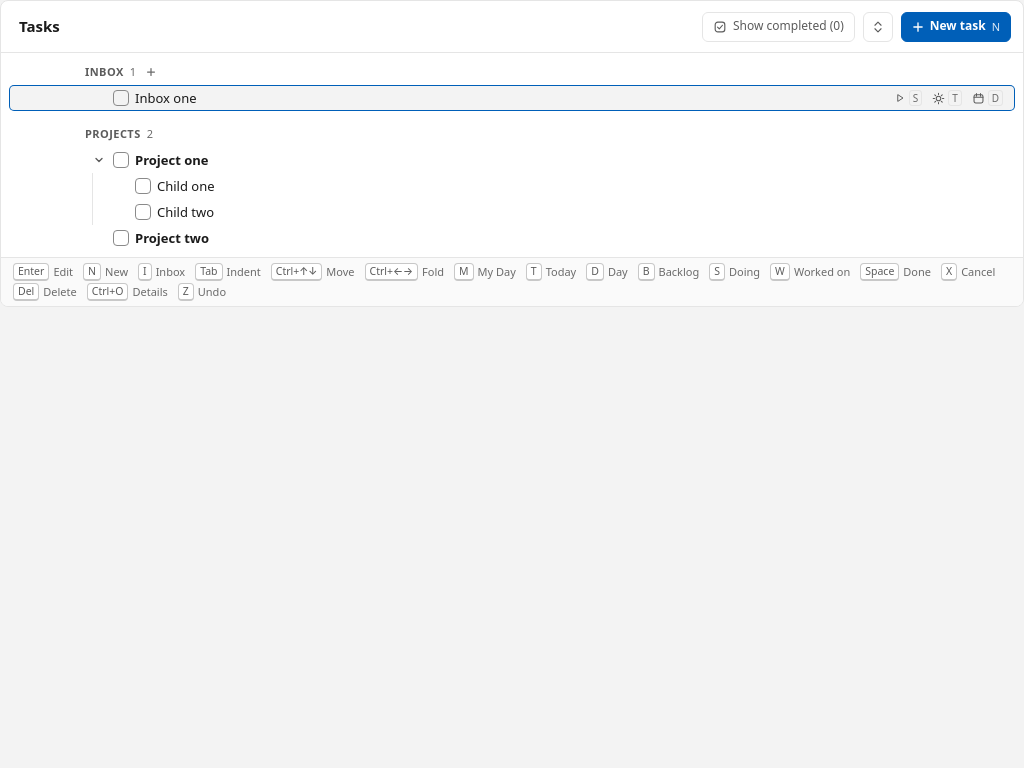
Test case: editing a saved title › Backspace on the first row deletes it and returns to navigate mode
Expected: the text "Child one" is shown, [157,177,215,195]
Press Enter
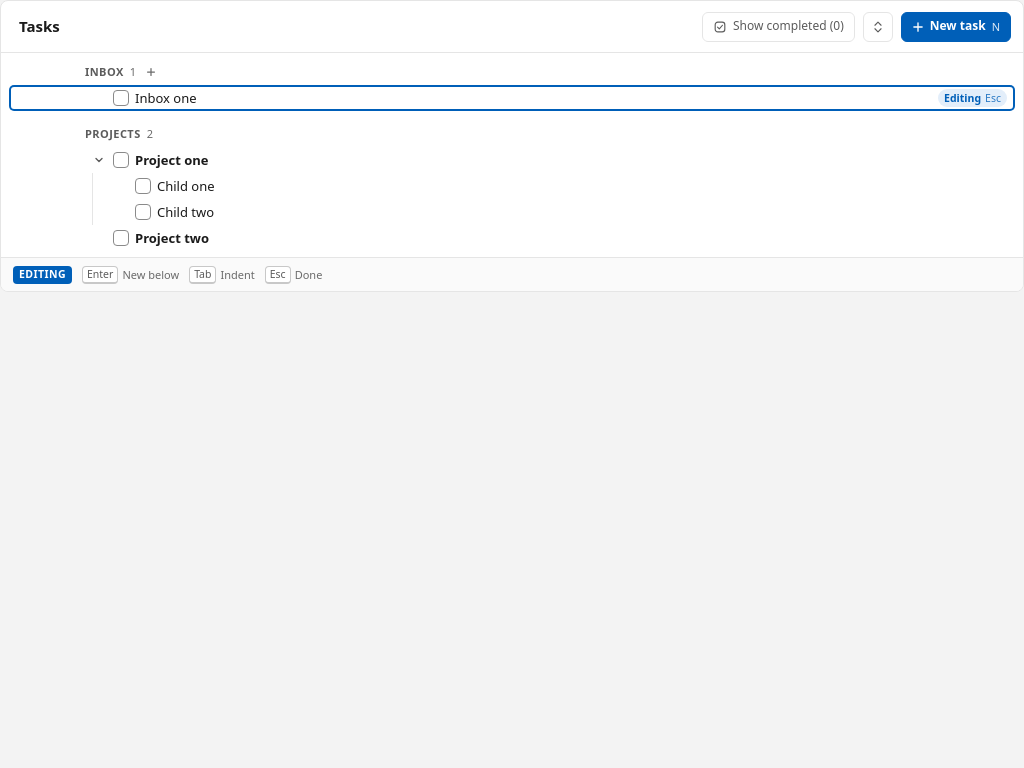
Clear the field. click: coordinates (333, 98)
box: [135,88,530,108]
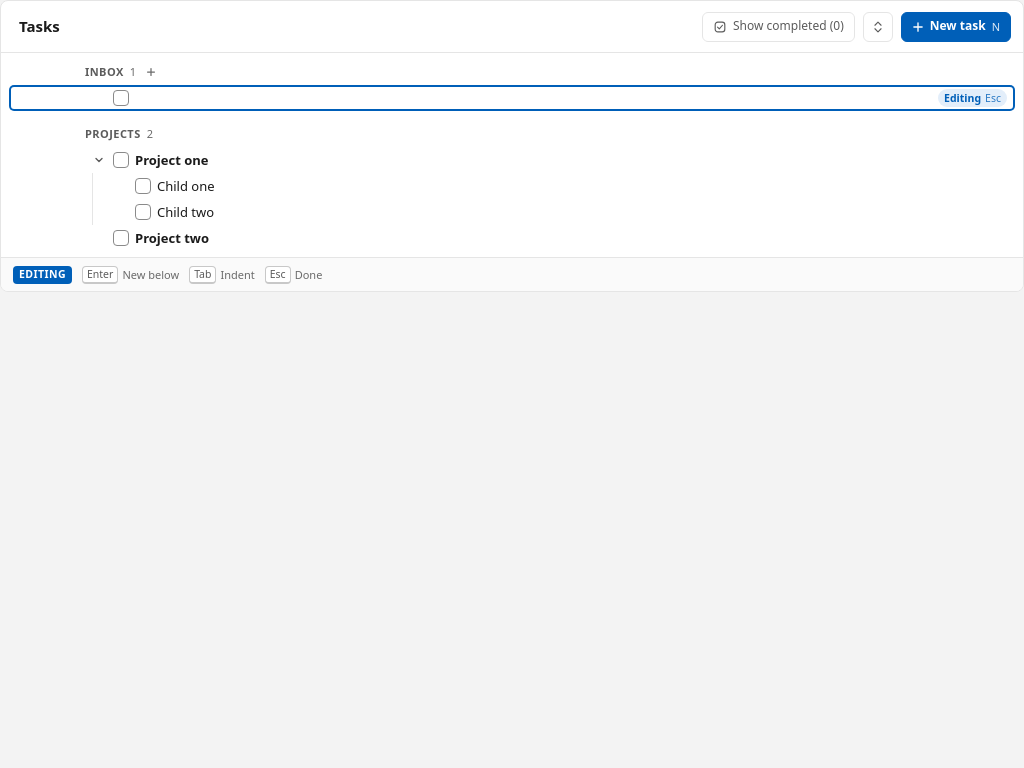
Press Backspace in the field, box [135,88,530,108]
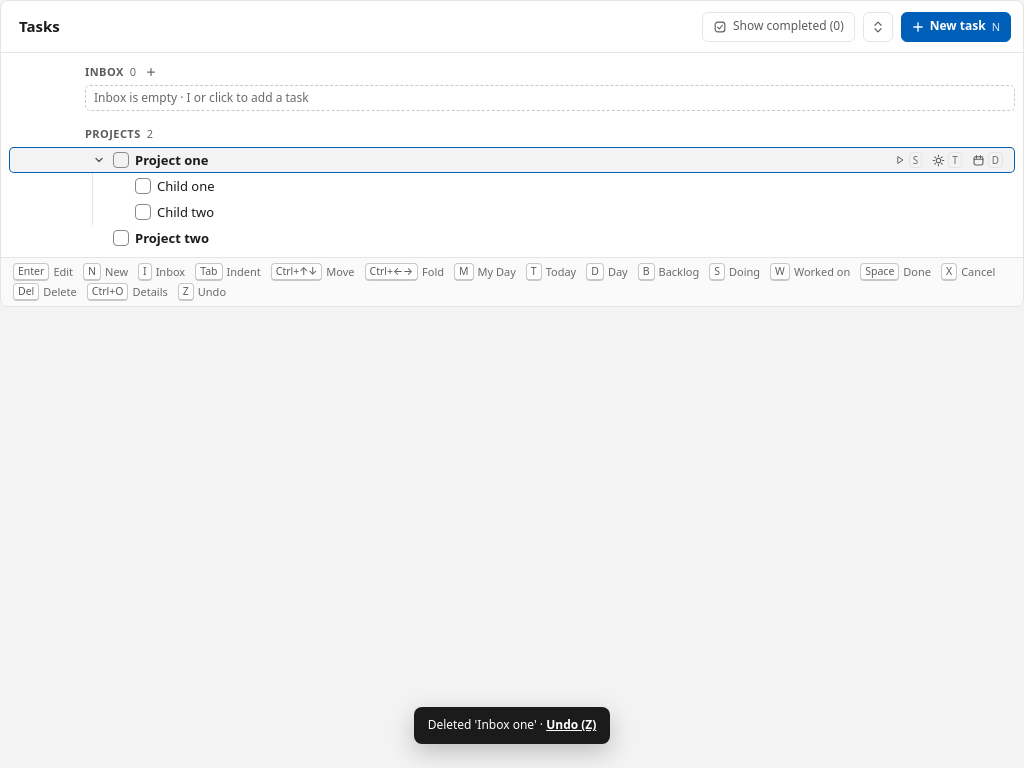
Result: the field is gone
